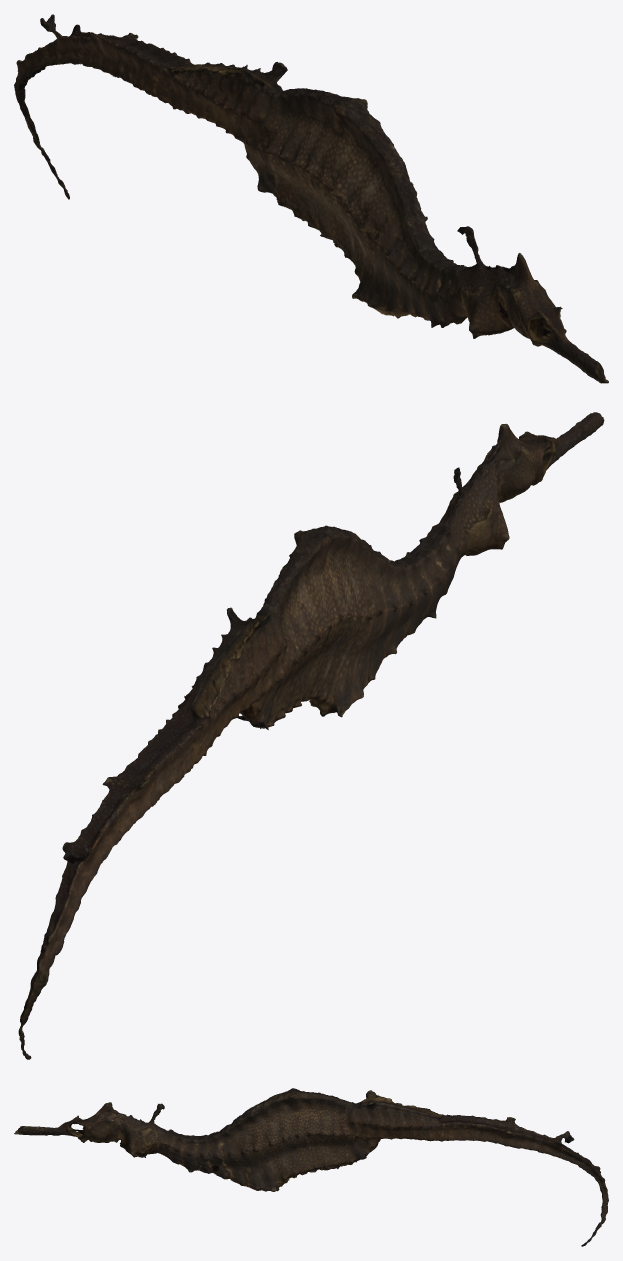
Rendered from phyllopteryx-taeniolatus.glb.
3 renders of one model, top to bottom at view 1: azimuth 30°, elevation 25°; view 2: azimuth 150°, elevation 25°; view 3: azimuth 270°, elevation 25°, orthographic. The views are drawn at different scales.
Bounding box in the file's own units: 0.0203 × 0.0762 × 0.2612.
1 material, 1 textured.
